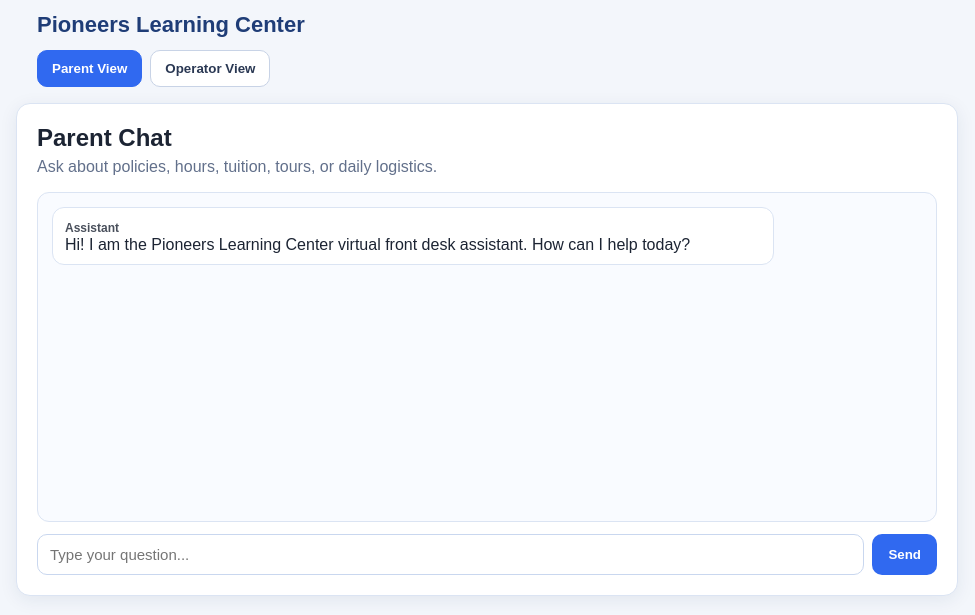
Test: ParentView › displays a successful AI reply in the chat window
This screenshot has width=975, height=615.
In the field with placeholder "Type your question...": (451, 554) [37,534,864,575], type "What are your hours?"
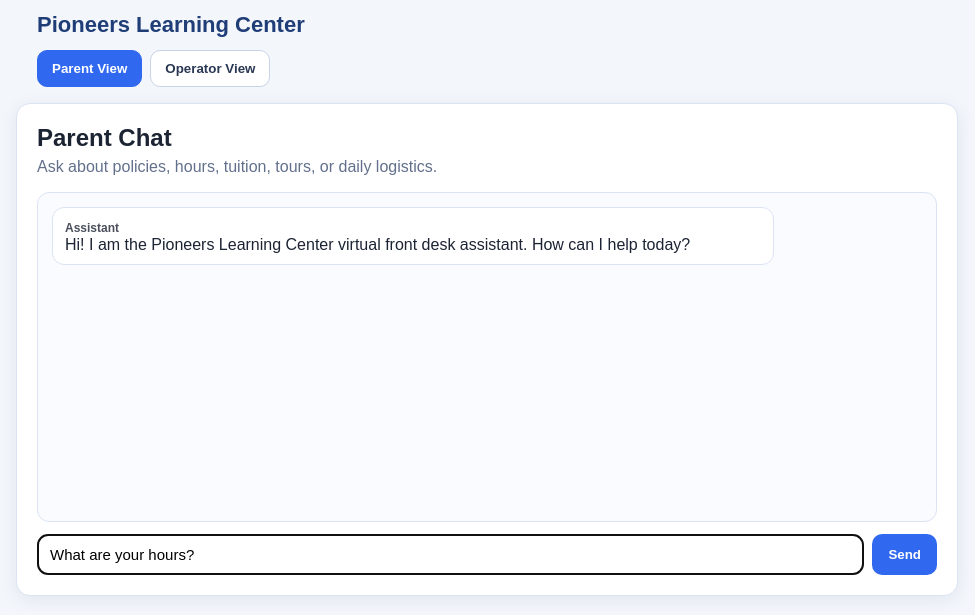
Submit the form with placeholder "type your question", box [37,534,937,575]
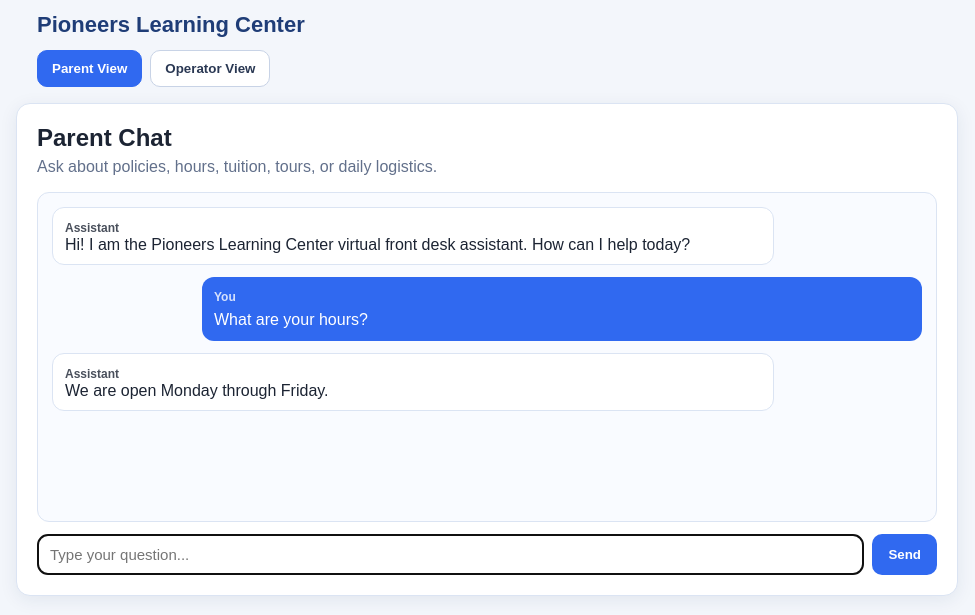
Expected: the text "We are open Monday through Friday." is shown, [65,382,329,399]
